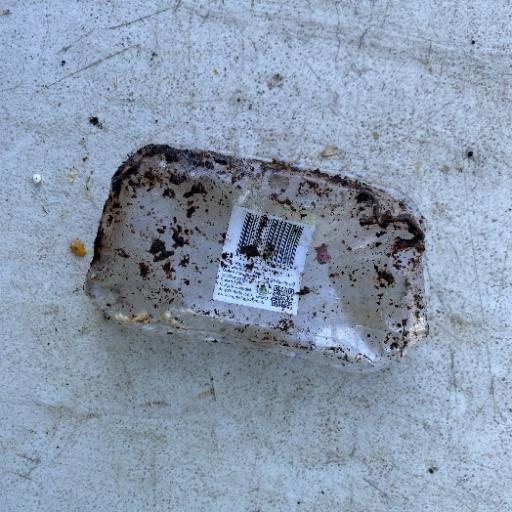Plastic: (81, 141, 431, 374)
